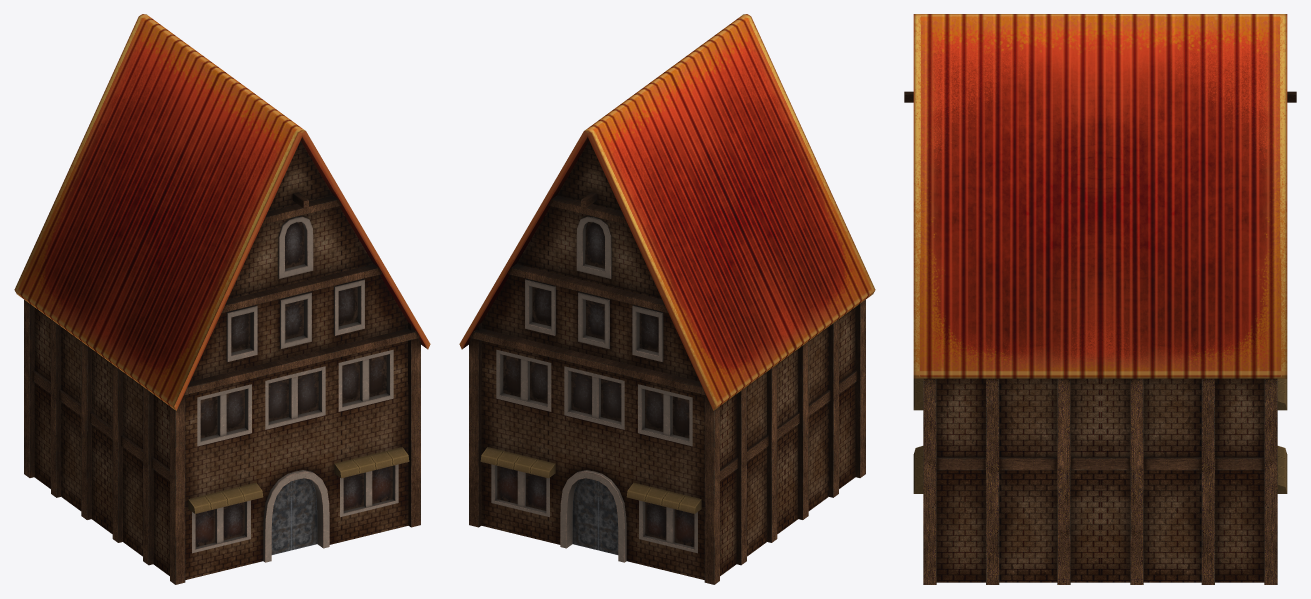
File: 3rdHouse.FBX
3 renders of one model, left to right at view 1: azimuth 30°, elevation 25°; view 2: azimuth 150°, elevation 25°; view 3: azimuth 270°, elevation 25°, orthographic. The views are drawn at different scales.
Parts seen in each view (by area): view 1: obj1; view 2: obj1; view 3: obj1.
Part boxes in pixels (<box>): obj1: <box>14,14,430,584</box>; obj1: <box>459,14,875,584</box>; obj1: <box>904,14,1296,584</box>.
Size of the model in its own units: 368 by 586 by 416.
